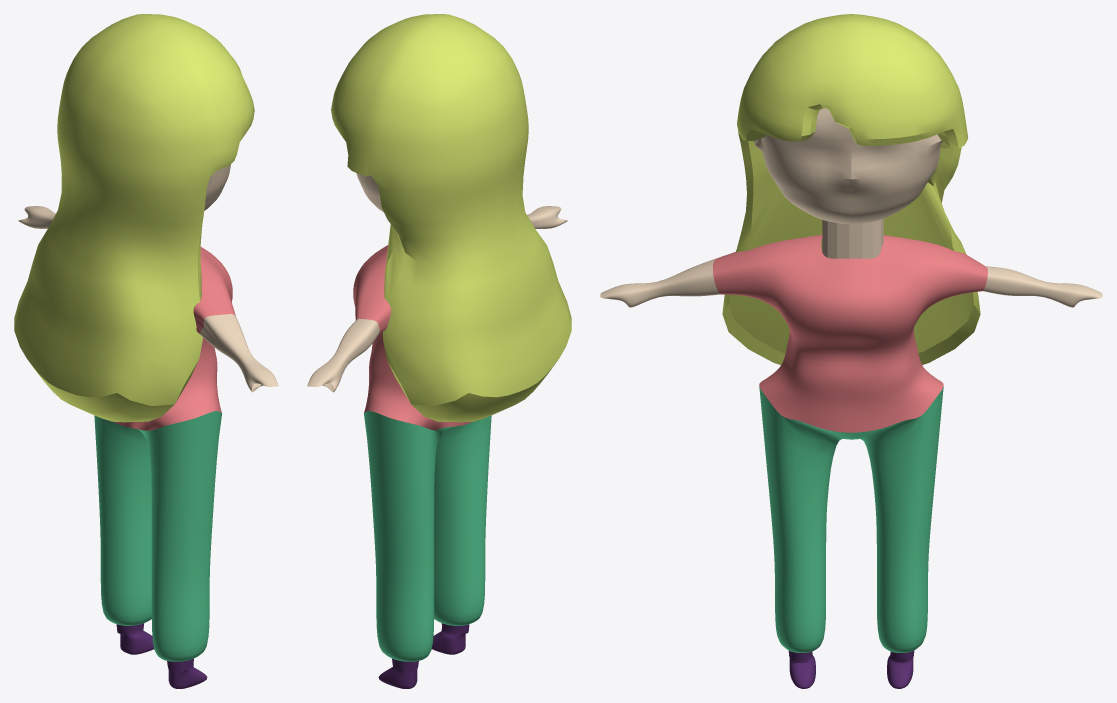
File: uzun saclı.fbx
3 renders of one model, left to right at view 1: azimuth 30°, elevation 25°; view 2: azimuth 150°, elevation 25°; view 3: azimuth 270°, elevation 25°, orthographic. The views are drawn at different scales.
Visible parts, largest first — view 1: Küp.002, Küp.004, Küp.001, Küp.003, Küp.005, Küp; view 2: Küp.002, Küp.004, Küp.001, Küp.003, Küp.005, Küp; view 3: Küp.002, Küp.001, Küp.004, Küp, Küp.003, Silindir, Küp.005.
Part boxes in pixels (box(x1,y1,x2,y2)): Küp.002: box(14, 14, 254, 422); Küp.004: box(94, 411, 221, 661); Küp.001: box(113, 247, 235, 430); Küp.003: box(18, 206, 278, 392); Küp.005: box(116, 623, 207, 688); Küp: box(204, 165, 230, 210); Küp.002: box(331, 14, 571, 422); Küp.004: box(364, 411, 491, 661); Küp.001: box(353, 245, 472, 430); Küp.003: box(307, 206, 567, 392); Küp.005: box(378, 623, 469, 688); Küp: box(356, 173, 383, 212); Küp.002: box(722, 14, 980, 364); Küp.001: box(712, 234, 987, 432); Küp.004: box(759, 387, 943, 652); Küp: box(754, 108, 960, 224); Küp.003: box(600, 258, 1102, 307); Silindir: box(822, 218, 883, 258); Küp.005: box(788, 650, 914, 688).
Bounding box in the file's own units: 237 × 780 × 539.
